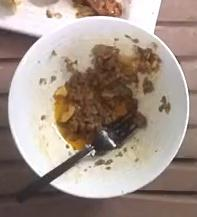beef: (53, 44, 160, 148)
